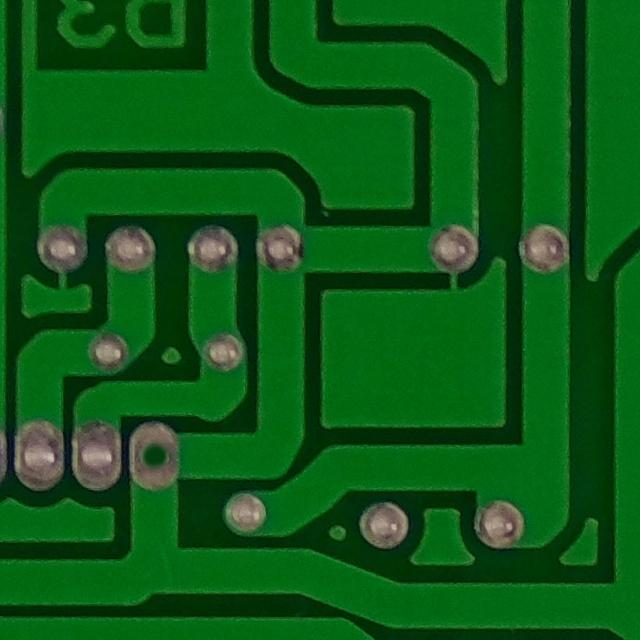missing_hole: (124, 424, 191, 491)
